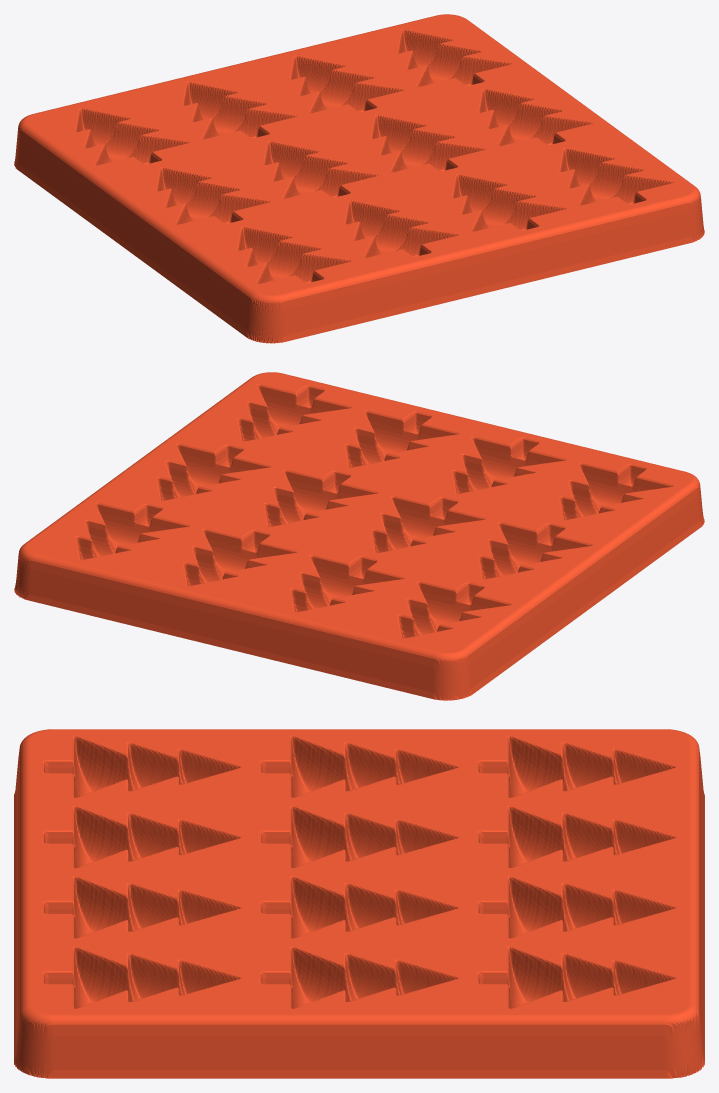
Rendered from mold.glb.
3 renders of one model, top to bottom at view 1: azimuth 30°, elevation 25°; view 2: azimuth 150°, elevation 25°; view 3: azimuth 270°, elevation 25°, orthographic. The views are drawn at different scales.
Parts seen in each view (by area): view 1: geometry_0; view 2: geometry_0; view 3: geometry_0.
Part boxes in pixels (bbox=[...]): geometry_0: bbox=[14, 14, 704, 343]; geometry_0: bbox=[14, 372, 704, 700]; geometry_0: bbox=[14, 729, 704, 1078].
Bounding box in the file's own units: 0.1606 × 0.0145 × 0.1575.
